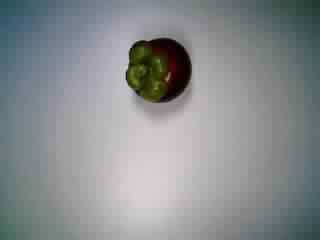mangosteen: (120, 32, 194, 105)
